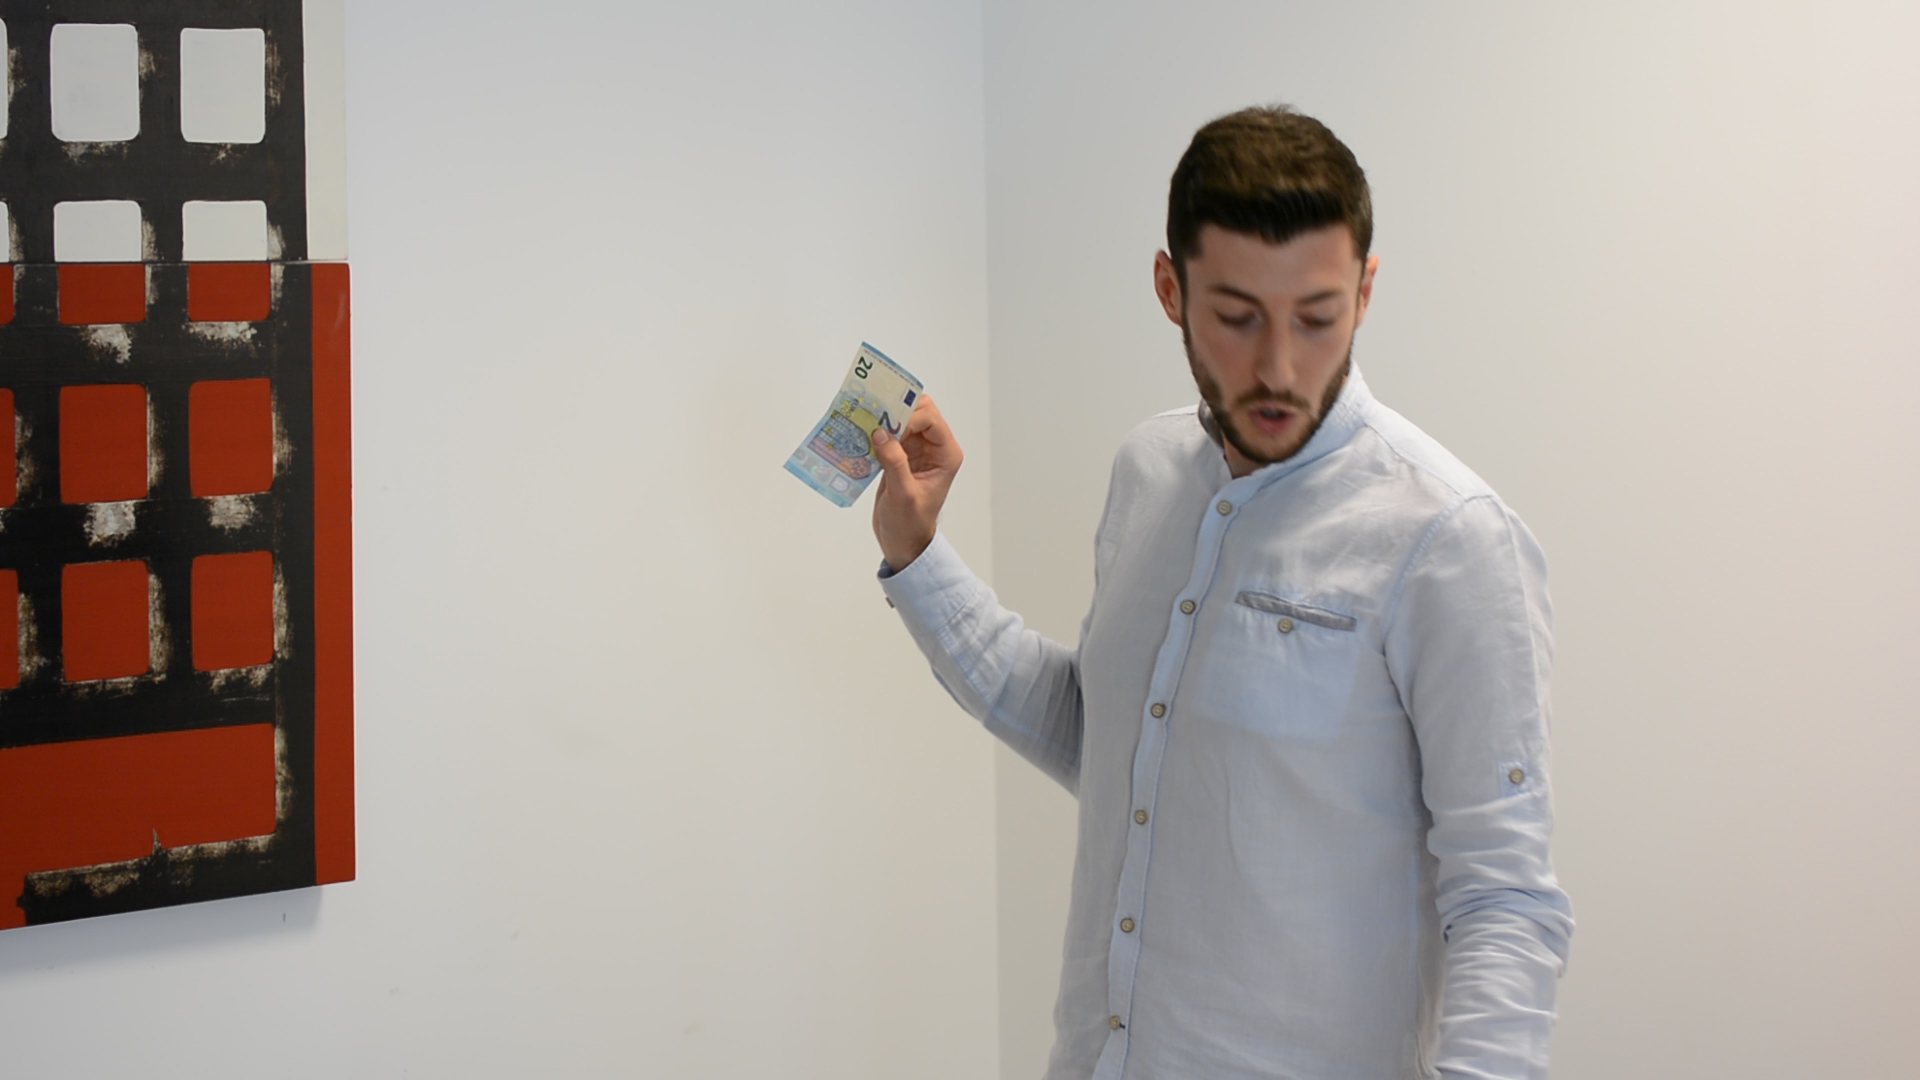billete: (782, 342, 924, 509)
